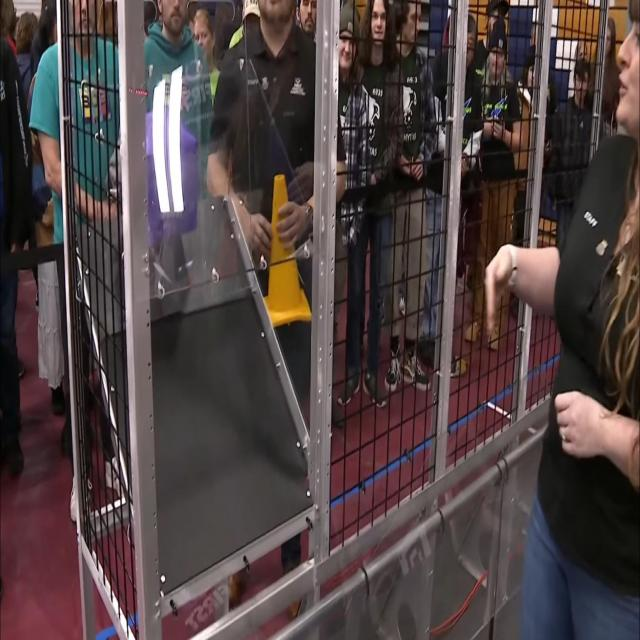frc_cone: (254, 176, 313, 326)
frc_cube: (146, 110, 199, 241)
